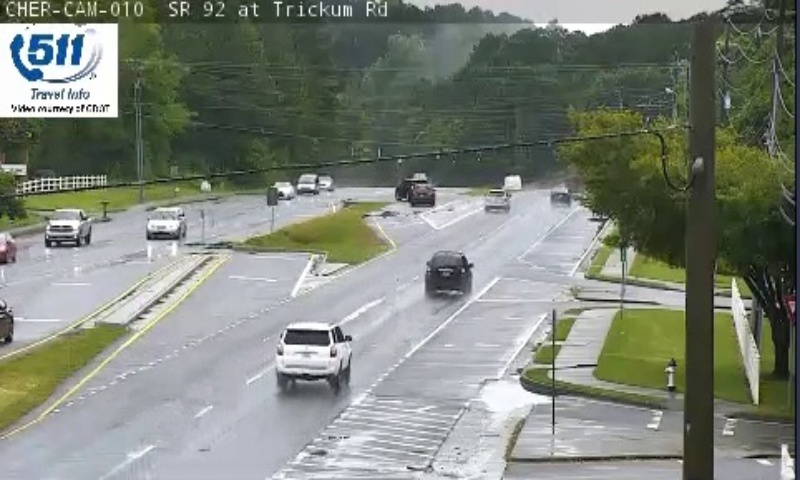car: (275, 323, 350, 378), (424, 250, 469, 292), (482, 189, 509, 211)
